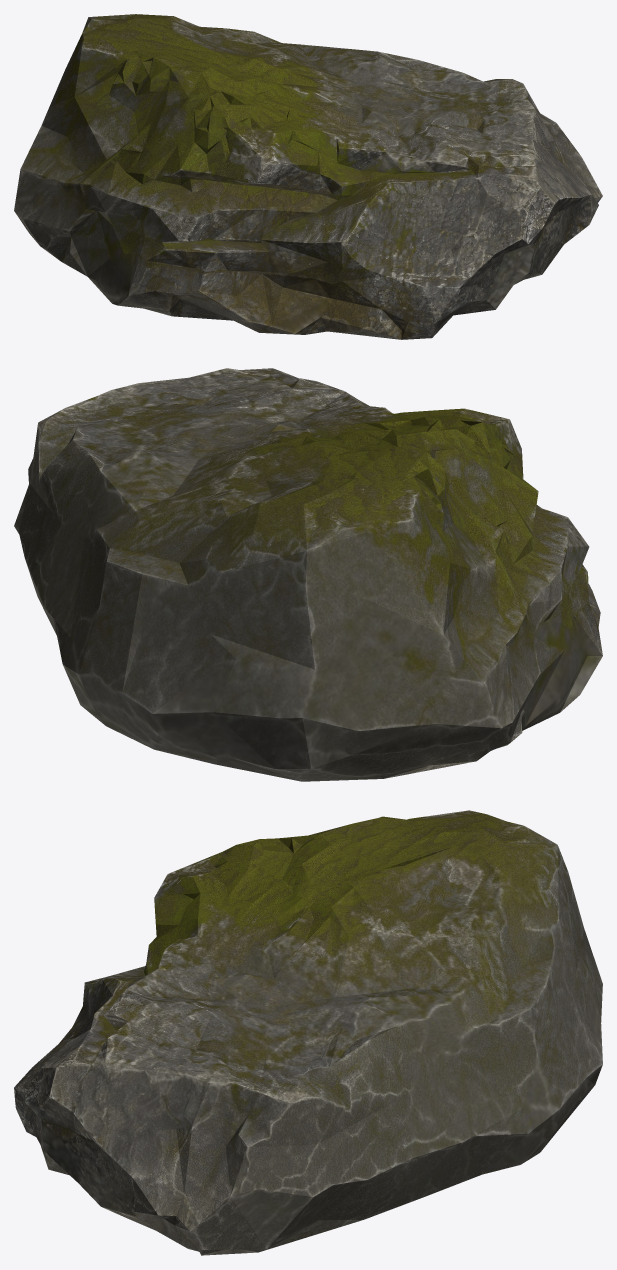
Rendered from fo_moss_boulder.glb.
3 renders of one model, top to bottom at view 1: azimuth 30°, elevation 25°; view 2: azimuth 150°, elevation 25°; view 3: azimuth 270°, elevation 25°, orthographic. The views are drawn at different scales.
Parts seen in each view (by area): view 1: output_unwrapped; view 2: output_unwrapped; view 3: output_unwrapped.
Boxes of the visible parts, x1,y1,x2,y2 form: output_unwrapped: (14, 14, 602, 339); output_unwrapped: (14, 368, 602, 781); output_unwrapped: (14, 810, 602, 1255).
Size of the model in its own units: 1.9 by 0.7897 by 1.74.
1 material, 1 textured.
